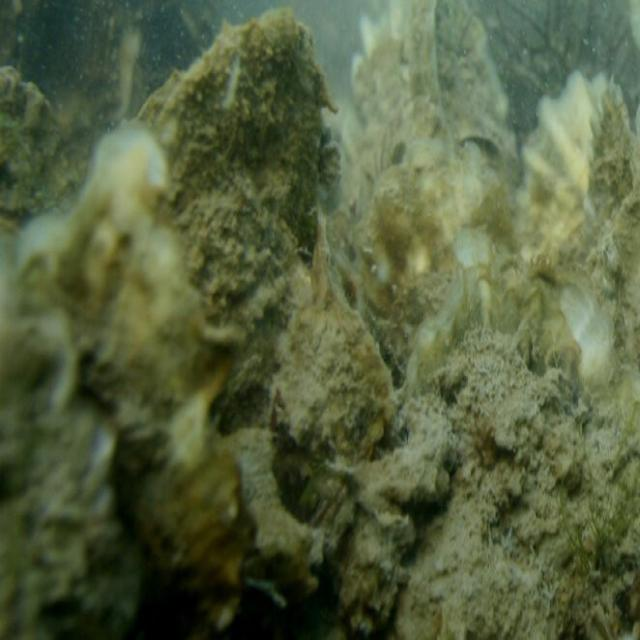Oyster-Closed: (0, 215, 141, 640)
Oyster-Indeterminate: (381, 254, 640, 640), (54, 123, 251, 624), (338, 0, 520, 313), (153, 8, 326, 245), (513, 71, 640, 391), (263, 212, 396, 468), (364, 168, 518, 380), (175, 196, 308, 422), (259, 464, 408, 640), (223, 429, 323, 591)
